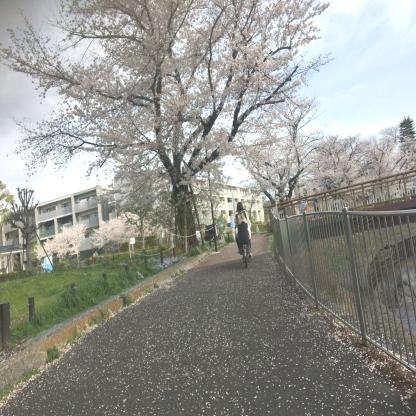Someiyoshino: (0, 0, 340, 229), (297, 128, 416, 197), (87, 203, 164, 256), (32, 218, 90, 262)
